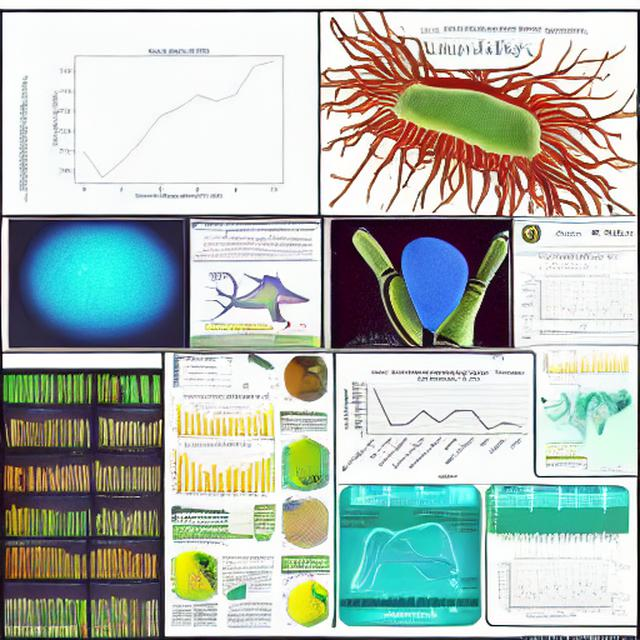Graph: (41, 26, 310, 211), (339, 364, 532, 482), (494, 554, 603, 621), (165, 441, 268, 503), (530, 273, 627, 329), (93, 408, 165, 452), (536, 349, 587, 385), (432, 36, 483, 59)
